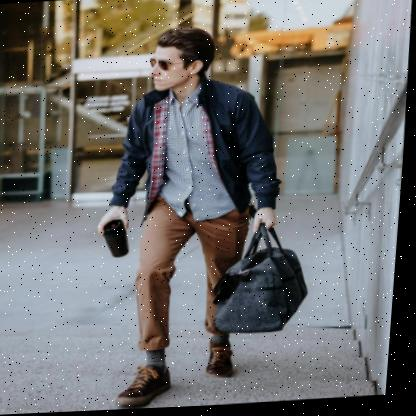person: (87, 3, 283, 406)
